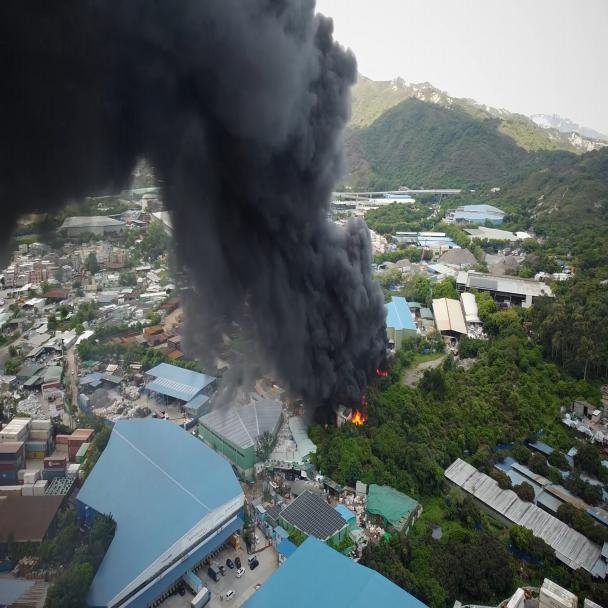Fire: (272, 349, 462, 474)
smoke: (0, 23, 382, 328)
